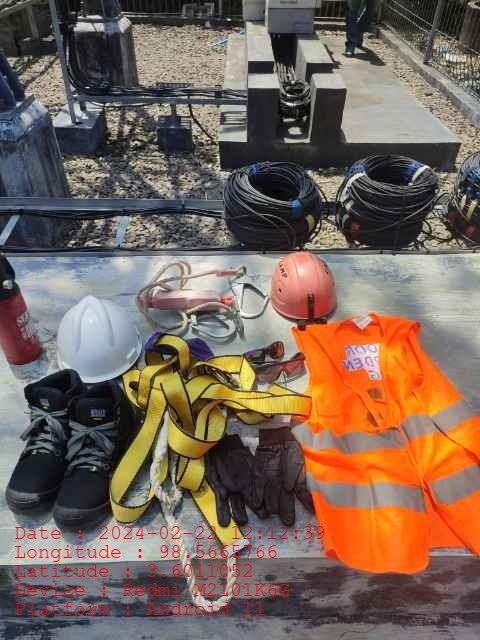HELM: (57, 298, 136, 375), (272, 248, 338, 322)
ROMPI: (293, 322, 480, 568)
